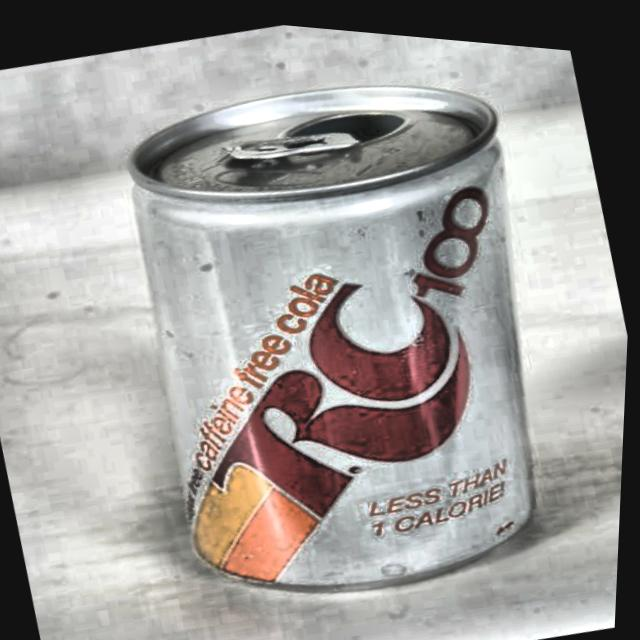Cans: (49, 5, 615, 640)
